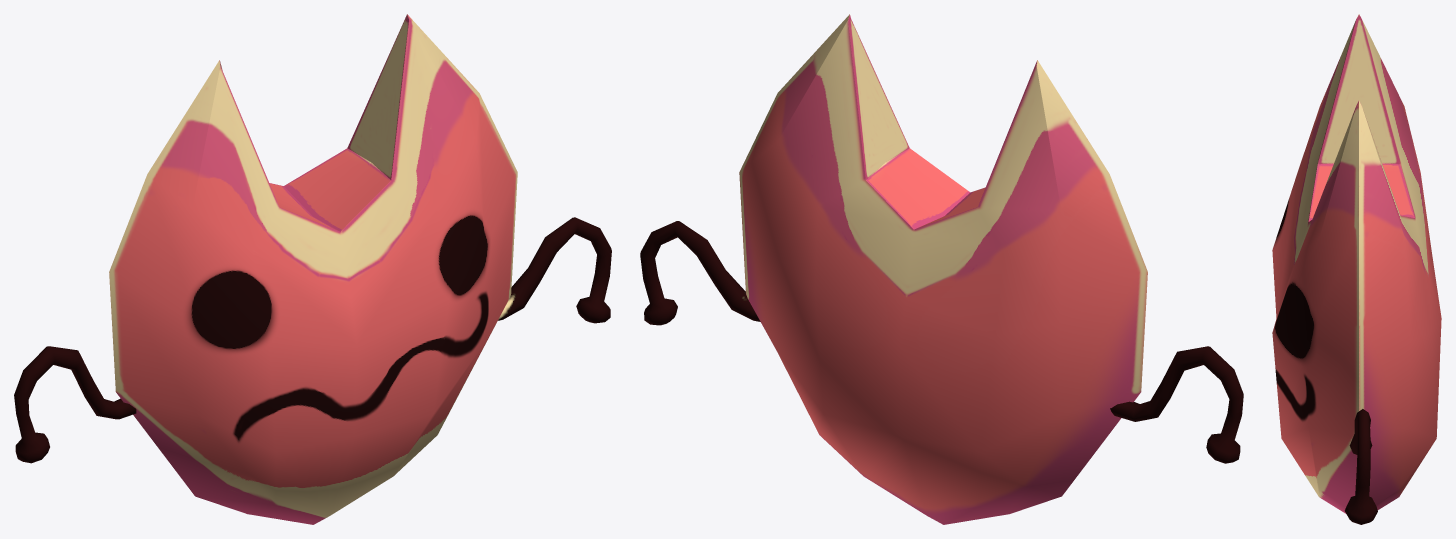
Rendered from CH_NPC_JumpingEnemy.fbx.
3 renders of one model, left to right at view 1: azimuth 30°, elevation 25°; view 2: azimuth 150°, elevation 25°; view 3: azimuth 270°, elevation 25°, orthographic. The views are drawn at different scales.
Visible parts, largest first — view 1: Cube.003, Cube.004; view 2: Cube.003, Cube.004; view 3: Cube.003, Cube.004.
Part boxes in pixels (x1=…): Cube.003: x1=109, y1=14, x2=517, y2=524; Cube.004: x1=14, y1=217, x2=611, y2=463; Cube.003: x1=739, y1=14, x2=1147, y2=524; Cube.004: x1=640, y1=221, x2=1243, y2=463; Cube.003: x1=1272, y1=14, x2=1441, y2=513; Cube.004: x1=1344, y1=409, x2=1377, y2=524.
Size of the model in its own units: 202 by 157 by 52.48.
Materials: 1 (1 with a texture image).
